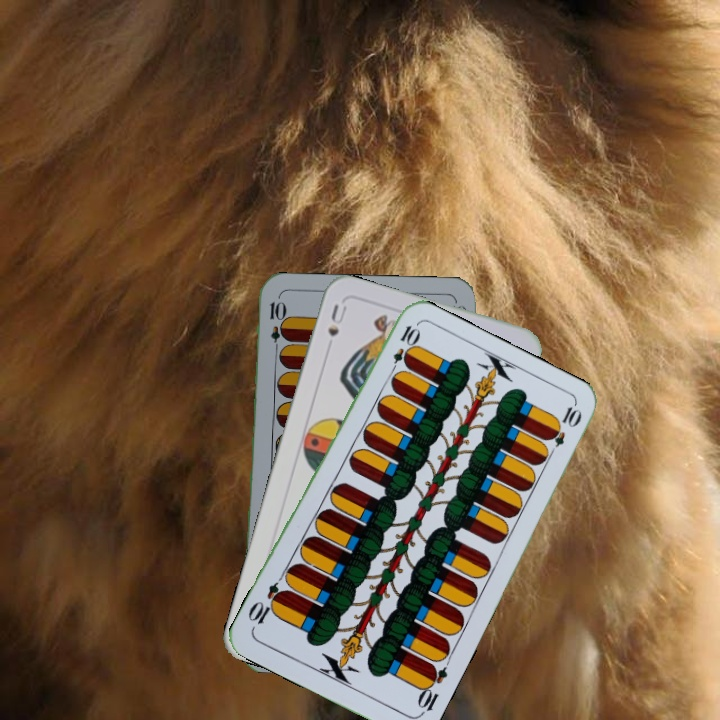E10: (413, 660, 451, 718), (385, 321, 421, 378), (266, 297, 284, 356)
SU: (323, 300, 350, 339)
